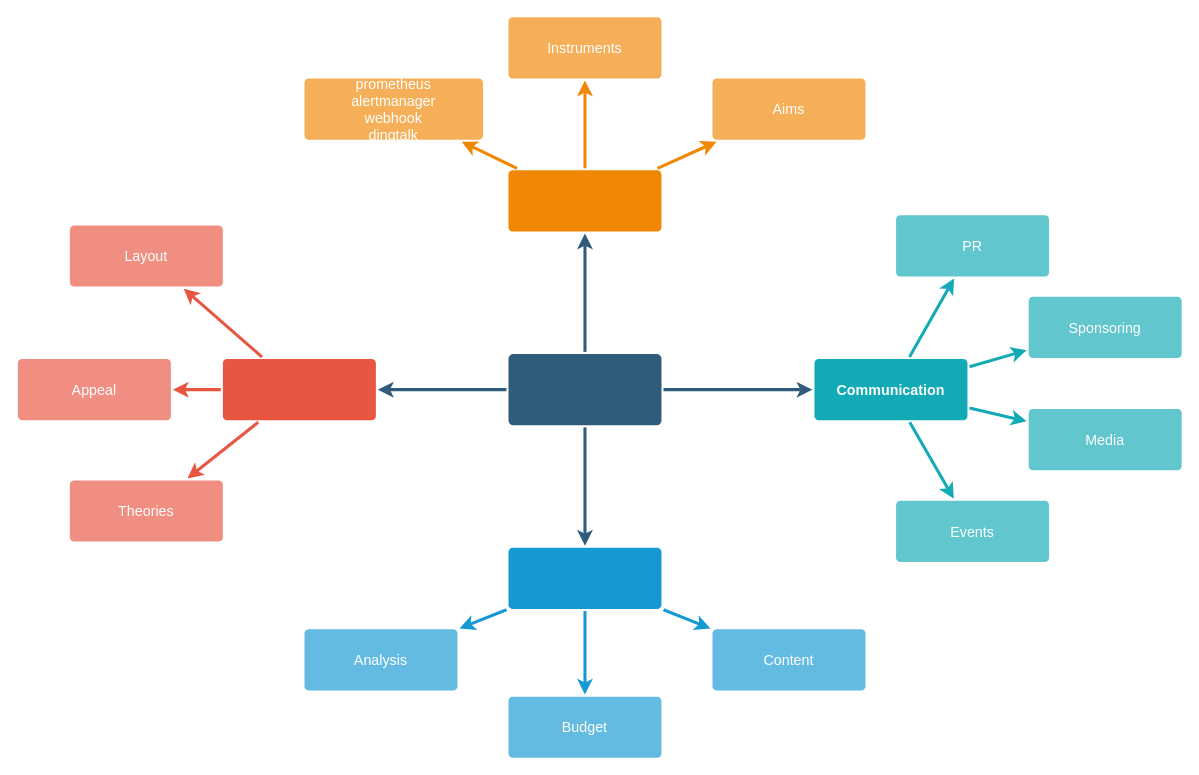
This 1199x775 diagram has some shape labels left out. The shapes that lost their labels are listed below. From the top down, each one's centre as x and y in pixels, then its label:
point 584,200: 监控建设
point 298,389: 基础设施建设
point 584,389: 运维规划
point 584,577: Organization
